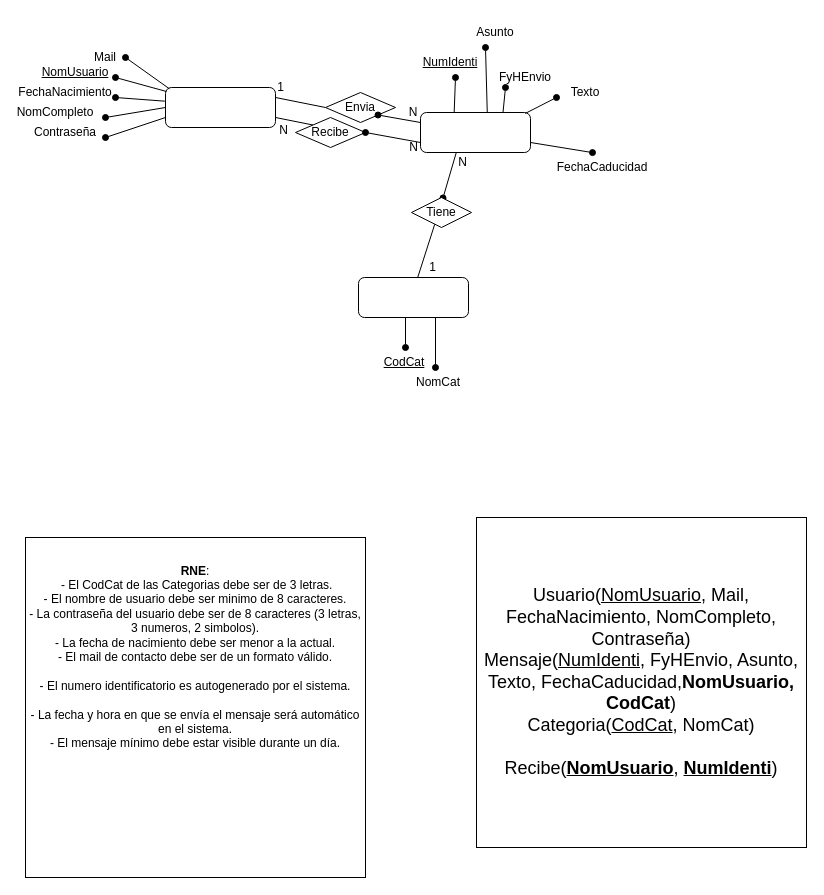
Image size: 824x895. Some labels were removed from this diagram. The centre of each missing label's shape, as x and y in pixels:
"Categoria" belongs at point 413,297.
"Mensaje" belongs at point 475,132.
"Usuario" belongs at point 220,107.
